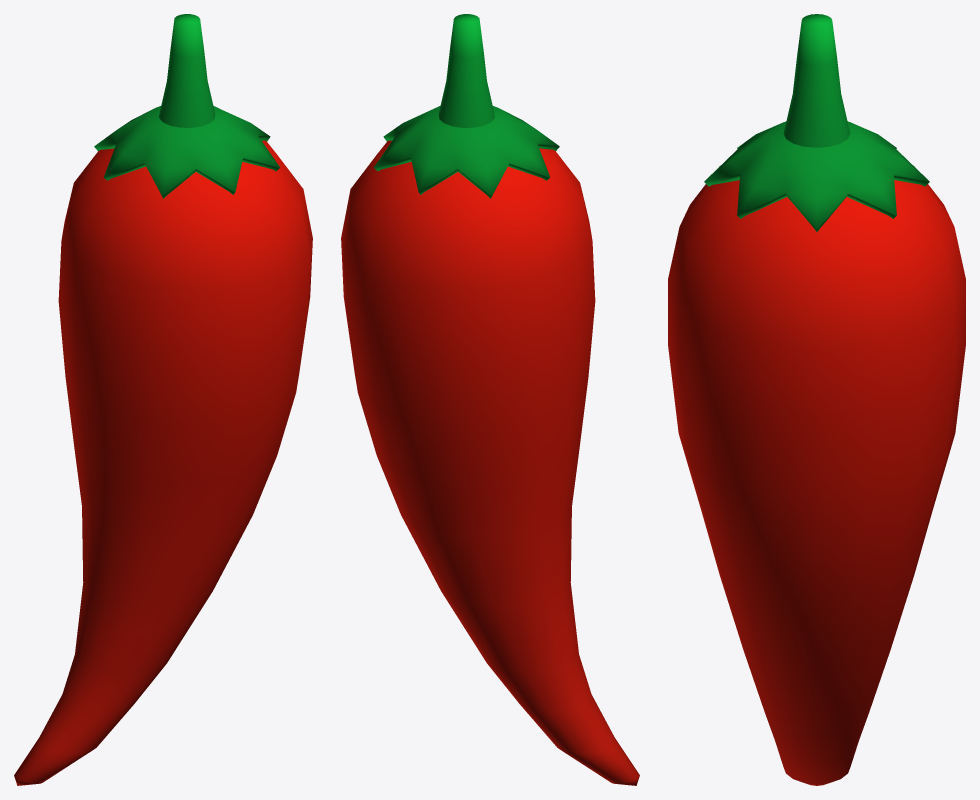
Rendered from Farm_Crop_Chili_01.fbx.
3 views of the same model, side by side, from view 1: azimuth 30°, elevation 25°; view 2: azimuth 150°, elevation 25°; view 3: azimuth 270°, elevation 25° (orthographic). The views are drawn at different scales.
Parts seen in each view (by area): view 1: Farm_Crop_Chili_01; view 2: Farm_Crop_Chili_01; view 3: Farm_Crop_Chili_01.
Part boxes in pixels (bbox=[...]): Farm_Crop_Chili_01: bbox=[14, 14, 312, 785]; Farm_Crop_Chili_01: bbox=[341, 14, 639, 785]; Farm_Crop_Chili_01: bbox=[668, 14, 965, 785].
Size of the model in its own units: 27.58 by 67.98 by 21.58.
